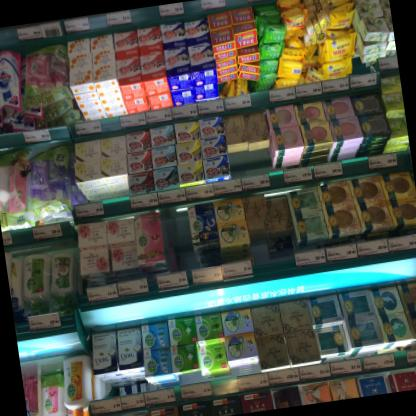empty_space: (161, 204, 197, 279)
